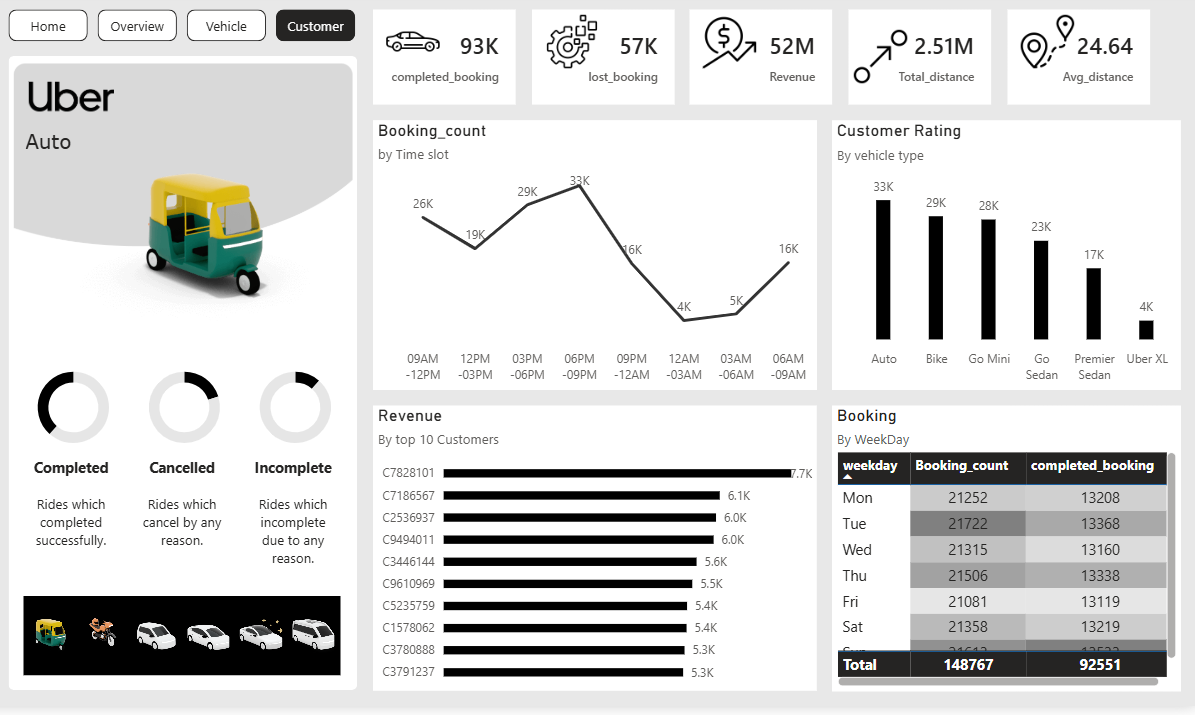

This screenshot's page, from the dashboard's own definition file:
{"tool":"powerbi","page":{"name":"Customer","canvas":[1280,720],"ordinal":3},"visuals":[{"type":"textbox","box":[912,128,352,272],"z":0},{"type":"shape","box":[0,0,64,720],"z":1000},{"type":"shape","box":[80,64,352,640],"z":2000},{"type":"image","box":[80,32,352,400],"z":3000},{"type":"image","box":[96,80,96,48],"z":4000},{"type":"cardVisual","fields":{"Data":["_Measures.completed_booking"]},"box":[448,16,144,96],"z":5000},{"type":"cardVisual","fields":{"Data":["_Measures.lost_booking"]},"box":[608,16,144,96],"z":6000},{"type":"cardVisual","fields":{"Data":["_Measures.booking_value"]},"box":[768,16,144,96],"z":7000},{"type":"cardVisual","fields":{"Data":["_Measures.Total_distance"]},"box":[928,16,144,96],"z":8000},{"type":"cardVisual","fields":{"Data":["_Measures.Avg_distance"]},"box":[1088,16,144,96],"z":9000},{"type":"advancedSlicerVisual","fields":{"Values":["IMG.Vehicle Type"]},"box":[96,608,320,80],"z":10000},{"type":"cardVisual","fields":{"Data":["Min(Uber.ve_type)"]},"box":[80,112,224,64],"z":11000},{"type":"cardVisual","fields":{"Data":["Min(IMG.Img)"]},"box":[128,80,304,336],"z":12000},{"type":"shape","box":[448,128,448,272],"z":13000},{"type":"columnChart","title":"Customer Rating ","fields":{"Category":["Uber.ve_type"],"Y":["_Measures.customer_count"]},"box":[912,128,352,272],"z":14000},{"type":"image","box":[448,16,80,64],"z":15000},{"type":"image","box":[608,16,80,64],"z":16000},{"type":"image","box":[768,16,80,64],"z":17000},{"type":"image","box":[928,32,64,64],"z":18000},{"type":"image","box":[1088,16,80,64],"z":19000},{"type":"donutChart","fields":{"Y":["_Measures.Booking_count","_Measures.remove_filter_completed_booking"]},"box":[208,368,100,100],"z":20000},{"type":"donutChart","fields":{"Y":["_Measures.Booking_count","_Measures.remove_filter_completed_booking"]},"box":[320,368,100,100],"z":21000},{"type":"donutChart","fields":{"Y":["_Measures.remove_filter_completed_booking","_Measures.Booking_count"]},"box":[96,368,100,100],"z":22000},{"type":"textbox","box":[96,464,96,128],"z":23000},{"type":"textbox","box":[208,464,96,128],"z":24000},{"type":"textbox","box":[320,464,96,128],"z":25000},{"type":"barChart","title":"Revenue","fields":{"Y":["_Measures.booking_value"],"Category":["Uber.Customer ID"]},"box":[448,416,448,288],"z":26000},{"type":"tableEx","title":"Booking","fields":{"Values":["Calender.weekday","_Measures.Booking_count","_Measures.completed_booking"]},"box":[912,416,352,288],"z":27000},{"type":"lineChart","fields":{"Category":["Uber.Time slot"],"Y":["_Measures.Booking_count"]},"box":[448,128,448,272],"z":28000},{"type":"pageNavigator","box":[80,16,352,32],"z":29000}]}

Visuals, with their boxes on the page's 1280x720 design canvas (x1, y1, x2, y2). These are canvas units, not pixel positions in the 1195x715 screenshot, which may show the page scaled, cropped or inside an application window:
textbox: crop(912, 128, 1264, 400)
shape: crop(0, 0, 64, 720)
shape: crop(80, 64, 432, 704)
image: crop(80, 32, 432, 432)
image: crop(96, 80, 192, 128)
cardVisual - _Measures.completed_booking: crop(448, 16, 592, 112)
cardVisual - _Measures.lost_booking: crop(608, 16, 752, 112)
cardVisual - _Measures.booking_value: crop(768, 16, 912, 112)
cardVisual - _Measures.Total_distance: crop(928, 16, 1072, 112)
cardVisual - _Measures.Avg_distance: crop(1088, 16, 1232, 112)
advancedSlicerVisual - IMG.Vehicle Type: crop(96, 608, 416, 688)
cardVisual - Min(Uber.ve_type): crop(80, 112, 304, 176)
cardVisual - Min(IMG.Img): crop(128, 80, 432, 416)
shape: crop(448, 128, 896, 400)
"Customer Rating " columnChart: crop(912, 128, 1264, 400)
image: crop(448, 16, 528, 80)
image: crop(608, 16, 688, 80)
image: crop(768, 16, 848, 80)
image: crop(928, 32, 992, 96)
image: crop(1088, 16, 1168, 80)
donutChart - _Measures.Booking_count x _Measures.remove_filter_completed_booking: crop(208, 368, 308, 468)
donutChart - _Measures.Booking_count x _Measures.remove_filter_completed_booking: crop(320, 368, 420, 468)
donutChart - _Measures.remove_filter_completed_booking x _Measures.Booking_count: crop(96, 368, 196, 468)
textbox: crop(96, 464, 192, 592)
textbox: crop(208, 464, 304, 592)
textbox: crop(320, 464, 416, 592)
"Revenue" barChart: crop(448, 416, 896, 704)
"Booking" tableEx: crop(912, 416, 1264, 704)
lineChart - Uber.Time slot x _Measures.Booking_count: crop(448, 128, 896, 400)
pageNavigator: crop(80, 16, 432, 48)
